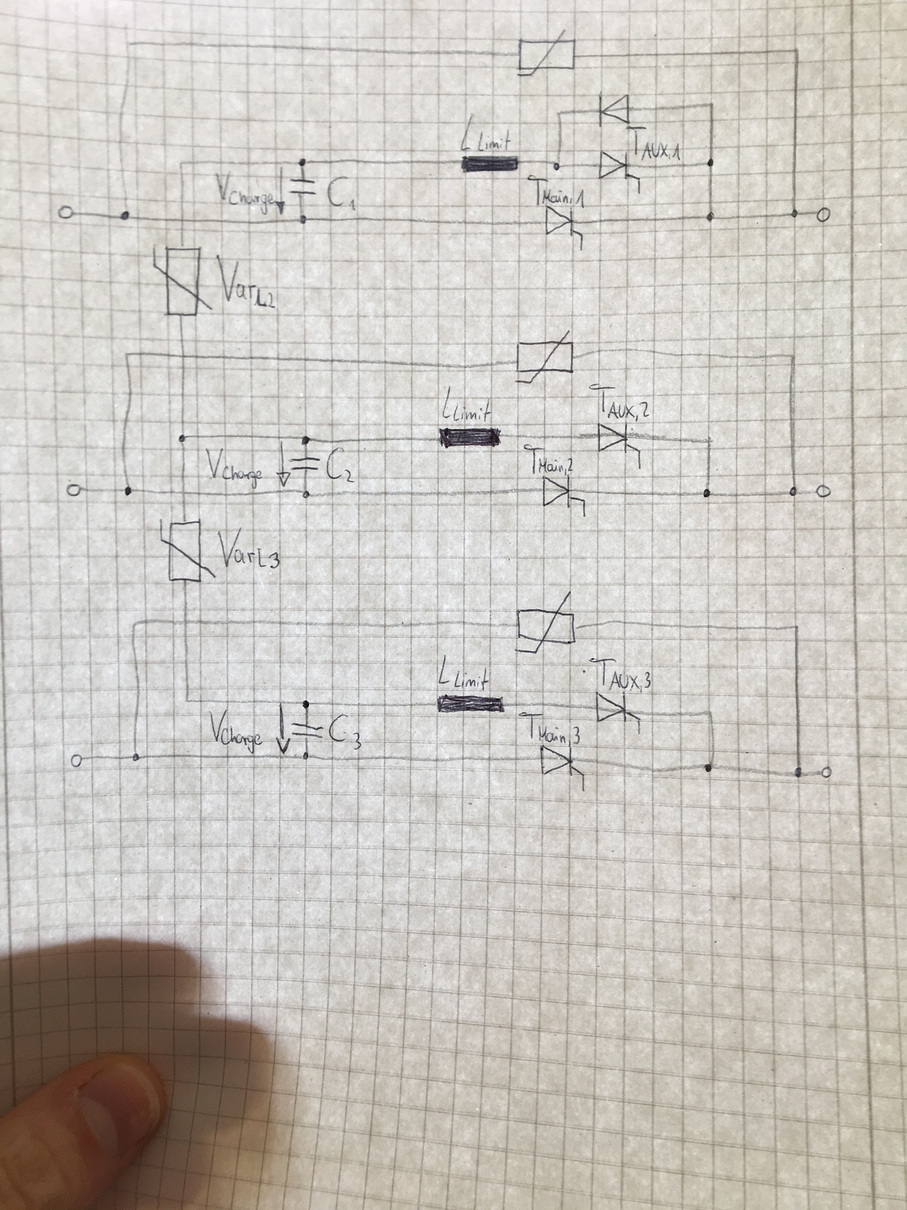capacitor.unpolarized: (289, 720, 325, 740), (287, 176, 318, 197), (288, 455, 321, 472)
crossover: (179, 616, 192, 629), (177, 351, 190, 364), (178, 487, 190, 498), (177, 215, 187, 224)
diode: (596, 90, 633, 129)
inductor: (435, 693, 507, 715), (437, 426, 503, 449), (459, 154, 521, 174)
junction: (296, 213, 310, 227), (787, 485, 800, 499), (792, 765, 805, 779), (297, 155, 310, 169), (299, 433, 312, 447), (300, 487, 313, 501), (704, 208, 716, 223), (122, 485, 135, 498), (118, 209, 131, 222), (701, 486, 713, 500), (129, 617, 143, 629), (703, 706, 717, 718), (551, 158, 563, 172), (122, 39, 137, 50), (788, 207, 801, 219), (705, 155, 716, 169), (300, 698, 312, 710), (703, 761, 715, 773), (177, 432, 188, 445), (703, 433, 714, 445), (300, 749, 311, 761), (553, 107, 564, 119), (787, 351, 798, 362), (130, 752, 141, 763), (790, 45, 802, 55), (705, 100, 717, 110), (183, 695, 193, 705), (791, 622, 801, 632), (175, 159, 186, 168), (123, 350, 132, 359)
terminal: (56, 203, 76, 221), (815, 206, 833, 223), (814, 483, 834, 498), (65, 482, 83, 498), (69, 752, 84, 769), (819, 764, 834, 779)
text: (216, 252, 278, 310), (216, 526, 281, 572), (214, 169, 275, 216), (204, 445, 264, 490), (207, 707, 264, 754), (588, 653, 653, 694), (587, 383, 652, 423), (517, 710, 582, 747), (624, 124, 683, 163), (459, 113, 515, 153), (525, 173, 587, 209), (440, 384, 493, 424), (436, 653, 489, 692), (522, 443, 575, 476), (327, 711, 365, 752), (324, 174, 358, 213), (325, 445, 357, 484)
thyristor: (596, 420, 645, 464), (539, 745, 587, 788), (594, 691, 643, 731), (597, 148, 642, 191), (541, 474, 588, 514), (544, 204, 585, 246)
varistor: (149, 242, 215, 320), (513, 589, 578, 656), (156, 515, 217, 585), (513, 327, 577, 386), (515, 26, 579, 79)
